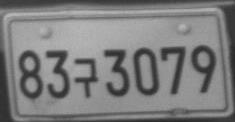0: (132, 46, 159, 96)
3: (103, 48, 130, 97), (45, 48, 69, 98)
7: (160, 45, 186, 94)
8: (17, 49, 43, 100)
9: (190, 43, 217, 93)
구: (73, 57, 99, 98)
